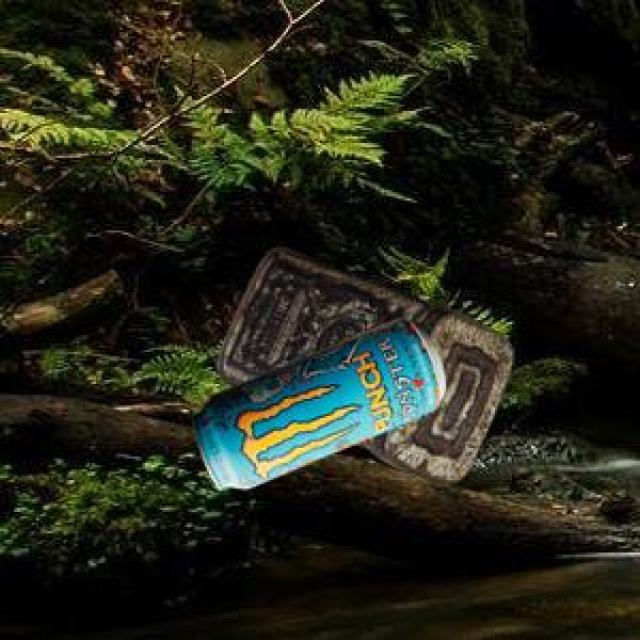logam: (214, 244, 511, 479), (189, 317, 443, 485)
